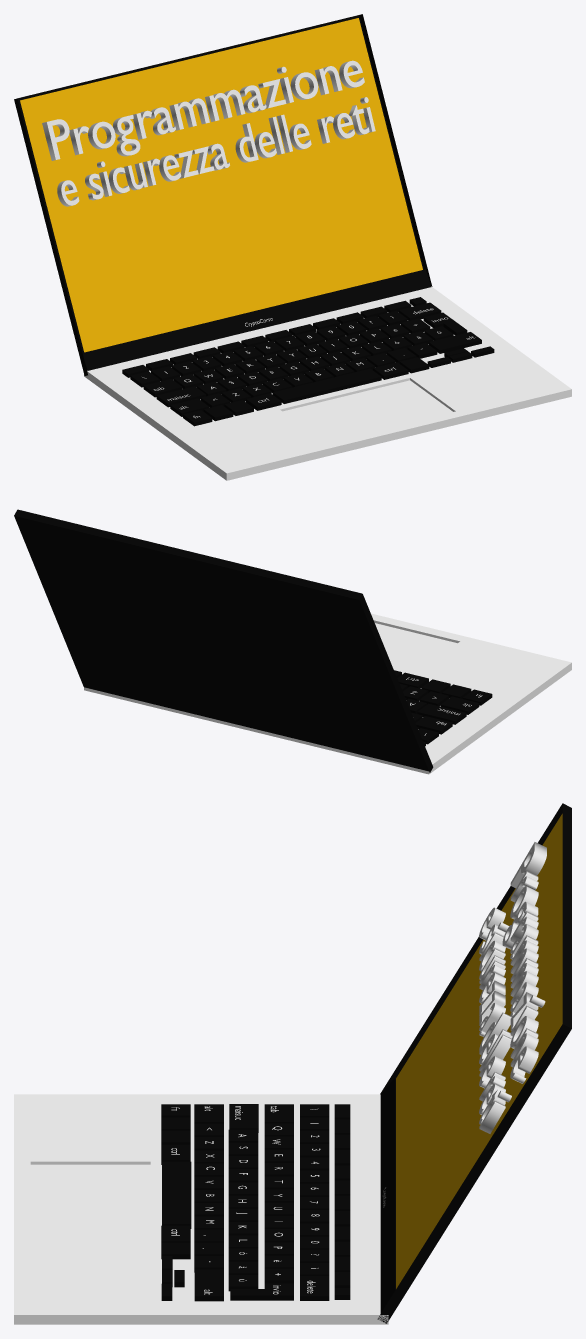
Rendered from reti2.glb.
3 views of the same model, one above another, from view 1: azimuth 30°, elevation 25°; view 2: azimuth 150°, elevation 25°; view 3: azimuth 270°, elevation 25° (orthographic). The views are drawn at different scales.
Parts seen in each view (by area): view 1: Cube.073, Cube, Text, Cube.074, Text.001, Cube.001, Cube.072, Cube.123; view 2: Cube.001, Cube, Cube.065, Cube.064, Cube.066, Cube.071; view 3: Cube, Cube.073, Cube.001, Text, Text.001, Cube.074, Cube.072, Cube.123, Cube.065, Cube.027.
Boxes of the visible parts, bbox=[...] form: Cube.073: bbox=[20, 18, 422, 352]; Cube: bbox=[84, 286, 571, 480]; Text: bbox=[42, 60, 364, 160]; Cube.074: bbox=[82, 269, 431, 370]; Text.001: bbox=[57, 97, 375, 206]; Cube.001: bbox=[14, 14, 432, 375]; Cube.072: bbox=[272, 368, 381, 403]; Cube.123: bbox=[428, 332, 481, 353]; Cube.001: bbox=[14, 509, 433, 772]; Cube: bbox=[84, 613, 571, 774]; Cube.065: bbox=[417, 703, 466, 724]; Cube.064: bbox=[440, 696, 479, 714]; Cube.066: bbox=[415, 716, 452, 734]; Cube.071: bbox=[397, 672, 428, 688]; Cube: bbox=[14, 1094, 388, 1324]; Cube.073: bbox=[396, 813, 562, 1288]; Cube.001: bbox=[377, 803, 571, 1323]; Text: bbox=[502, 842, 546, 1083]; Text.001: bbox=[479, 907, 512, 1133]; Cube.074: bbox=[380, 1077, 396, 1313]; Cube.072: bbox=[162, 1161, 191, 1228]; Cube.123: bbox=[194, 1269, 223, 1301]; Cube.065: bbox=[229, 1104, 258, 1132]; Cube.027: bbox=[300, 1276, 329, 1300].
Size of the model in its own units: 6.79 by 4.31 by 7.25.
